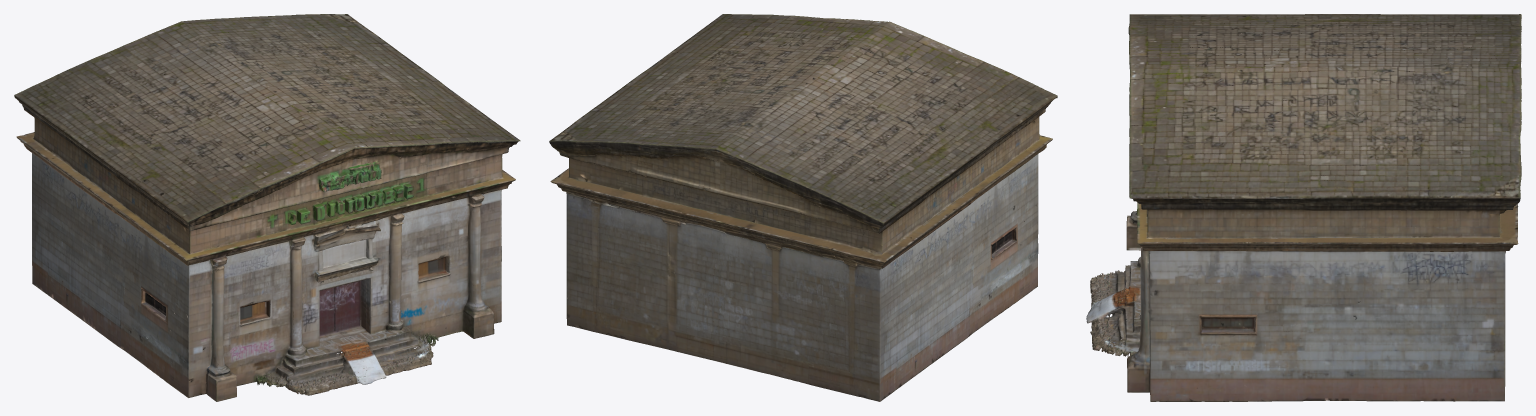
File: Teatro5.glb
The picture shows the model from 3 angles, left to right: view 1: azimuth 30°, elevation 25°; view 2: azimuth 150°, elevation 25°; view 3: azimuth 270°, elevation 25°; orthographic projection. The views are drawn at different scales.
Parts seen in each view (by area): view 1: Mesh1; view 2: Mesh1; view 3: Mesh1.
Part boxes in pixels (<box>): Mesh1: <box>14,14,520,401</box>; Mesh1: <box>549,14,1057,401</box>; Mesh1: <box>1086,14,1521,401</box>.
Bounding box in the file's own units: 2 × 1.27 × 2.
Materials: 1 (1 with a texture image).
